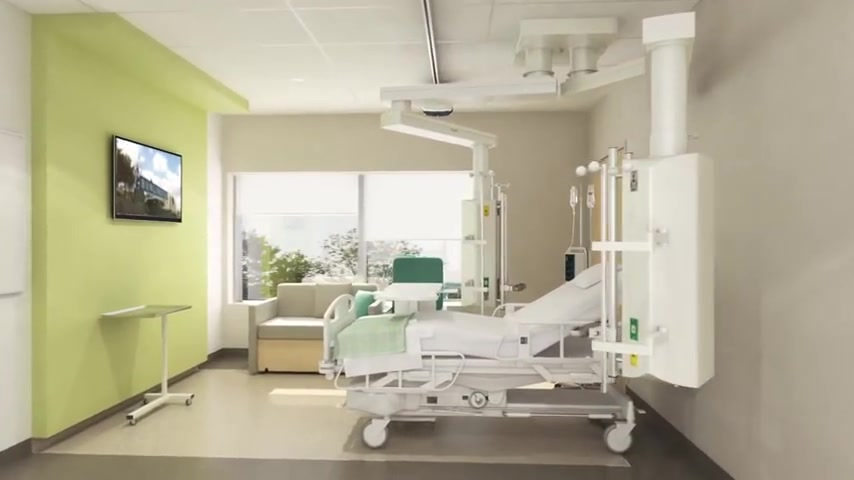TV: (111, 135, 183, 223)
bedrail: (333, 351, 466, 393), (498, 320, 602, 365), (492, 303, 529, 316)
foot_board: (323, 293, 359, 363)
hospital_bed: (325, 254, 642, 444)
infusion_pump: (563, 245, 589, 281)
iv_pole: (601, 145, 619, 388), (489, 180, 514, 309), (568, 181, 595, 249)
overbed_table: (102, 304, 196, 424), (379, 282, 441, 314)
sofa: (248, 284, 376, 373)
